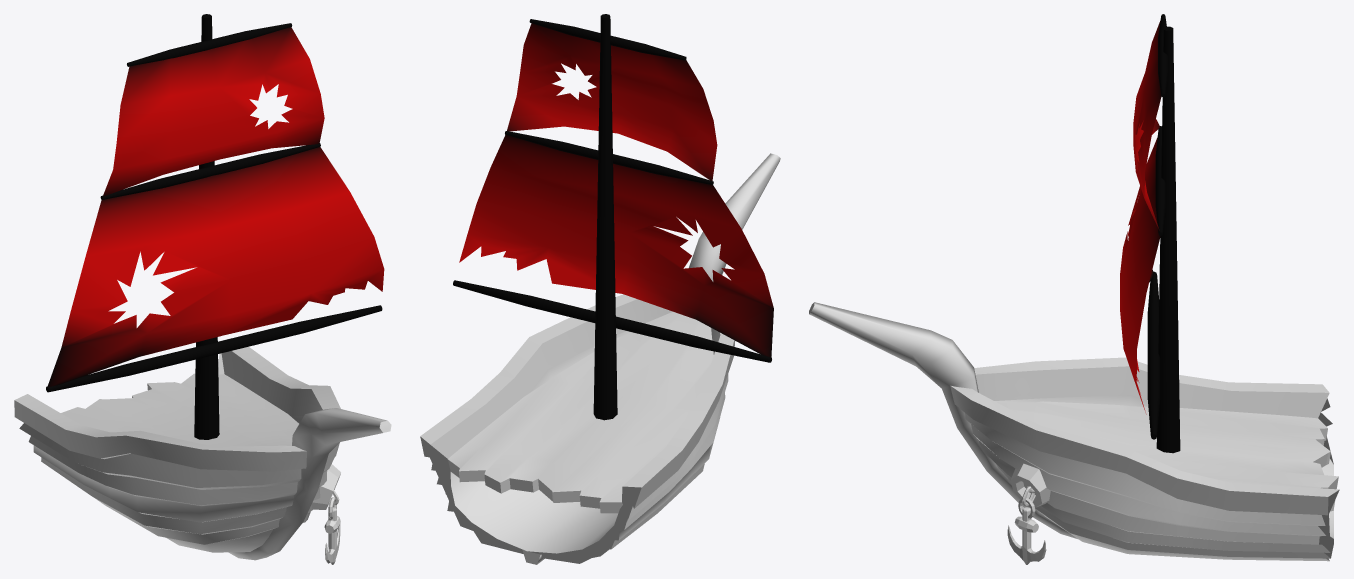
The model's file is Ship_Front.fbx.
3 views of the same model, side by side, from view 1: azimuth 30°, elevation 25°; view 2: azimuth 150°, elevation 25°; view 3: azimuth 270°, elevation 25° (orthographic). The views are drawn at different scales.
Parts seen in each view (by area): view 1: Mast_Front, Ship_Front; view 2: Mast_Front, Ship_Front; view 3: Ship_Front, Mast_Front.
Part boxes in pixels (<box>): Mast_Front: <box>46,14,384,439</box>; Ship_Front: <box>14,346,391,564</box>; Mast_Front: <box>453,14,773,420</box>; Ship_Front: <box>420,153,780,564</box>; Ship_Front: <box>809,302,1339,564</box>; Mast_Front: <box>1120,14,1180,453</box>.
Bounding box in the file's own units: 4144 × 6162 × 5708.
